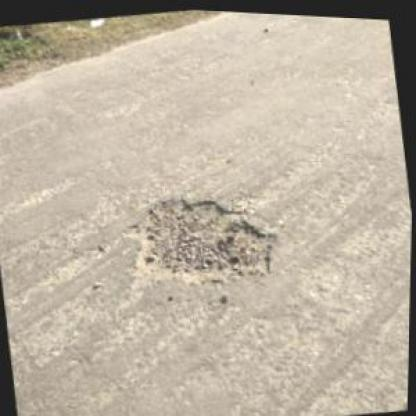pothole: (115, 179, 287, 297)
